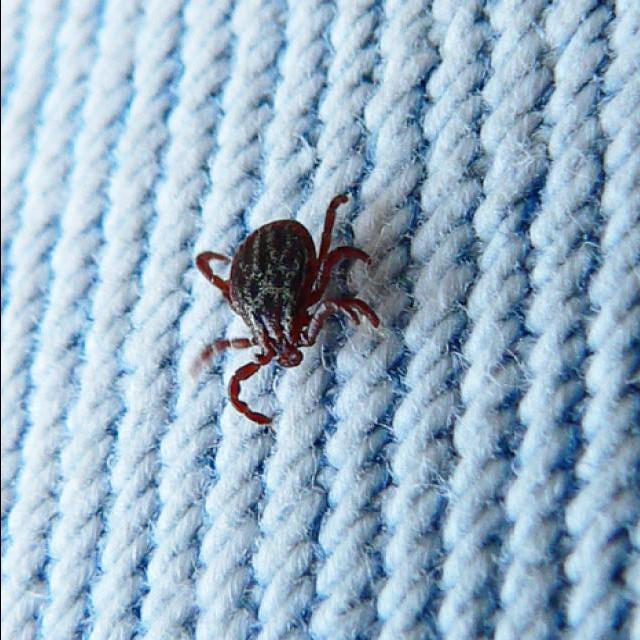Dermacentor Reticulatus-M: (189, 191, 380, 426)
